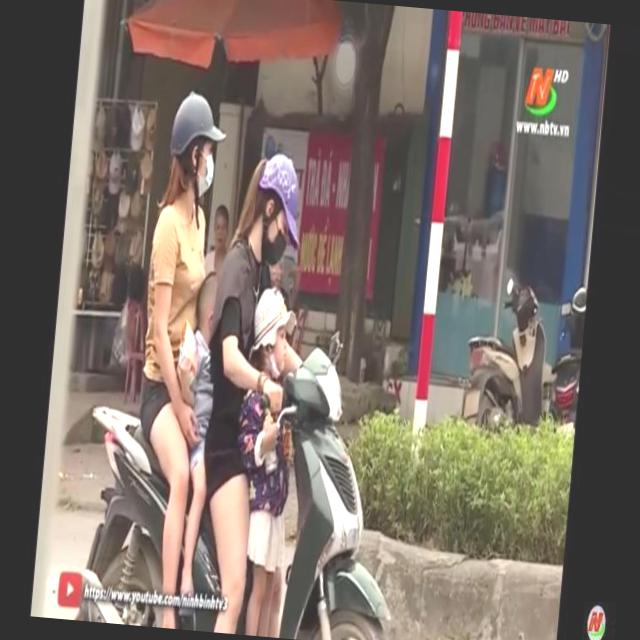motorcycle: (75, 321, 422, 640)
person: (175, 147, 318, 617), (114, 82, 237, 577), (224, 285, 334, 630), (168, 269, 235, 527)
rider_region: (80, 81, 441, 640)
